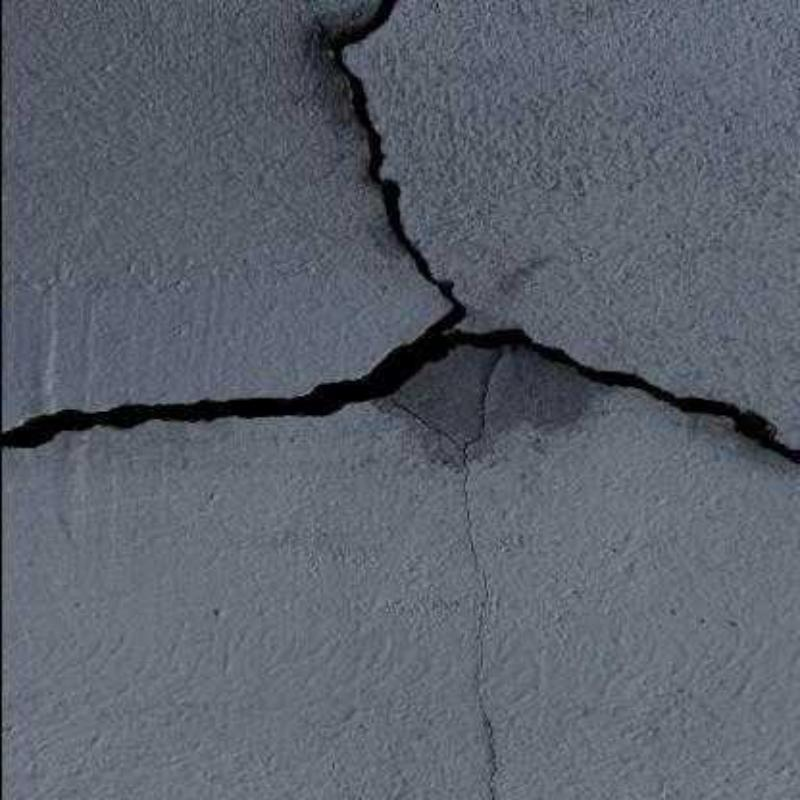pothole: (0, 0, 798, 467), (387, 350, 506, 798)
